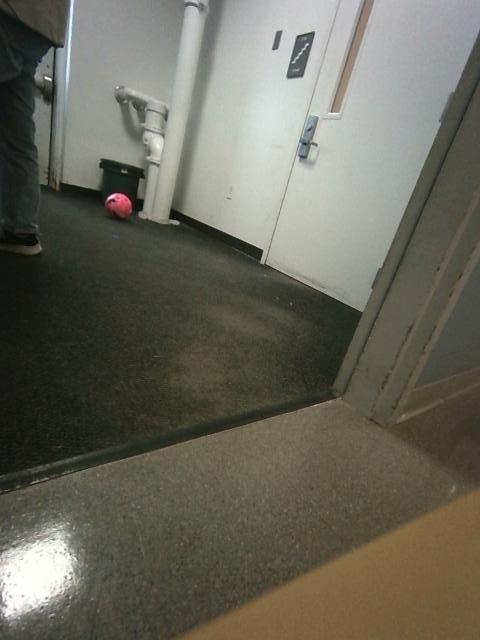ball: (104, 193, 131, 218)
